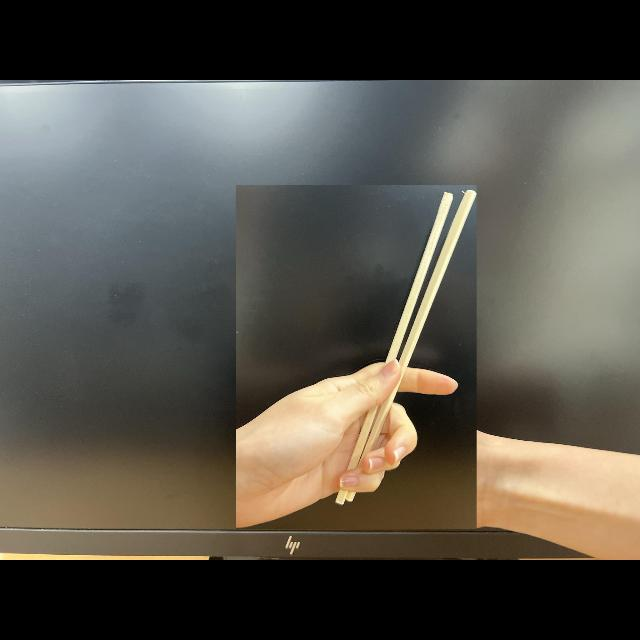stick: (236, 186, 476, 528)
